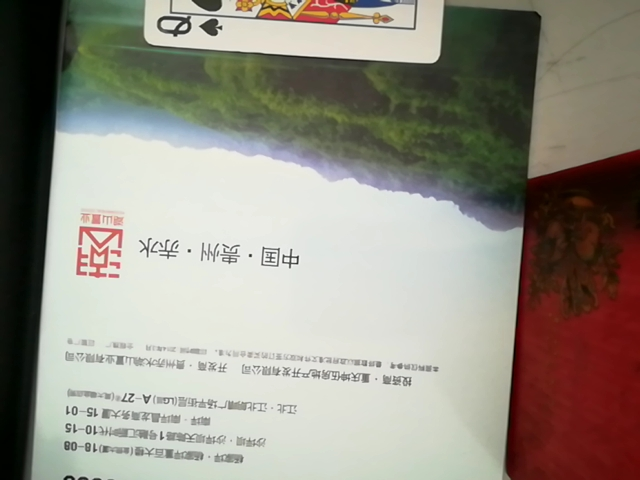ht q: (136, 0, 452, 69)
